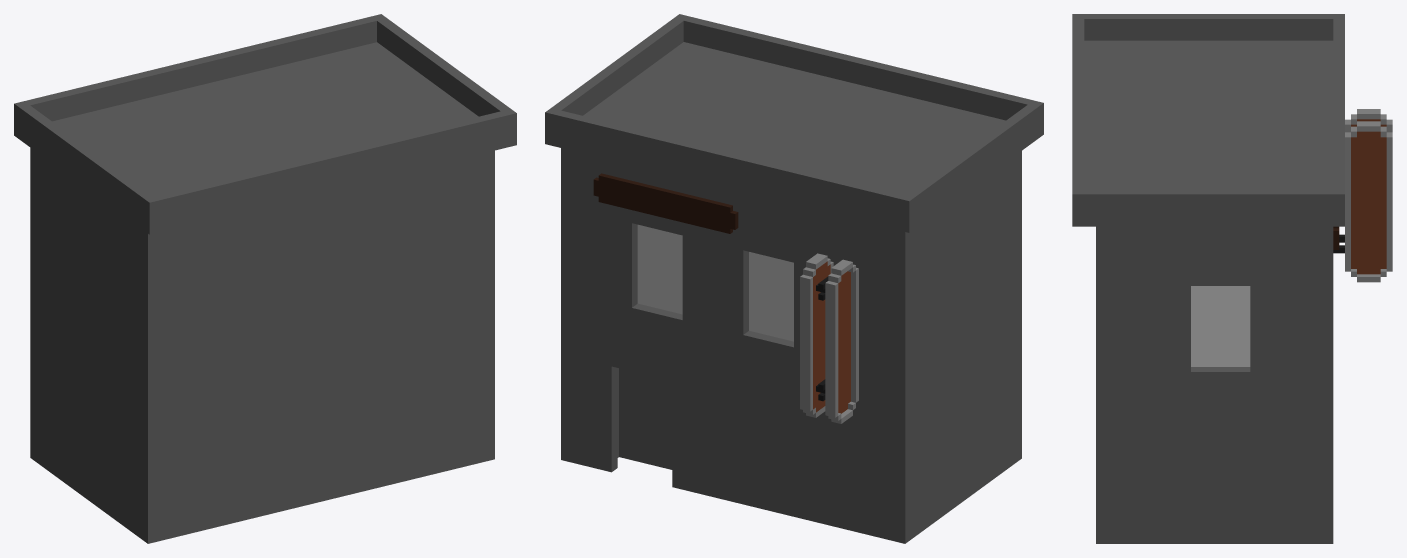
File: House-5.obj
3 renders of one model, left to right at view 1: azimuth 30°, elevation 25°; view 2: azimuth 150°, elevation 25°; view 3: azimuth 270°, elevation 25°, orthographic.
Size of the model in its own units: 7.2 by 6.6 by 5.4.
1 material, 1 textured.
